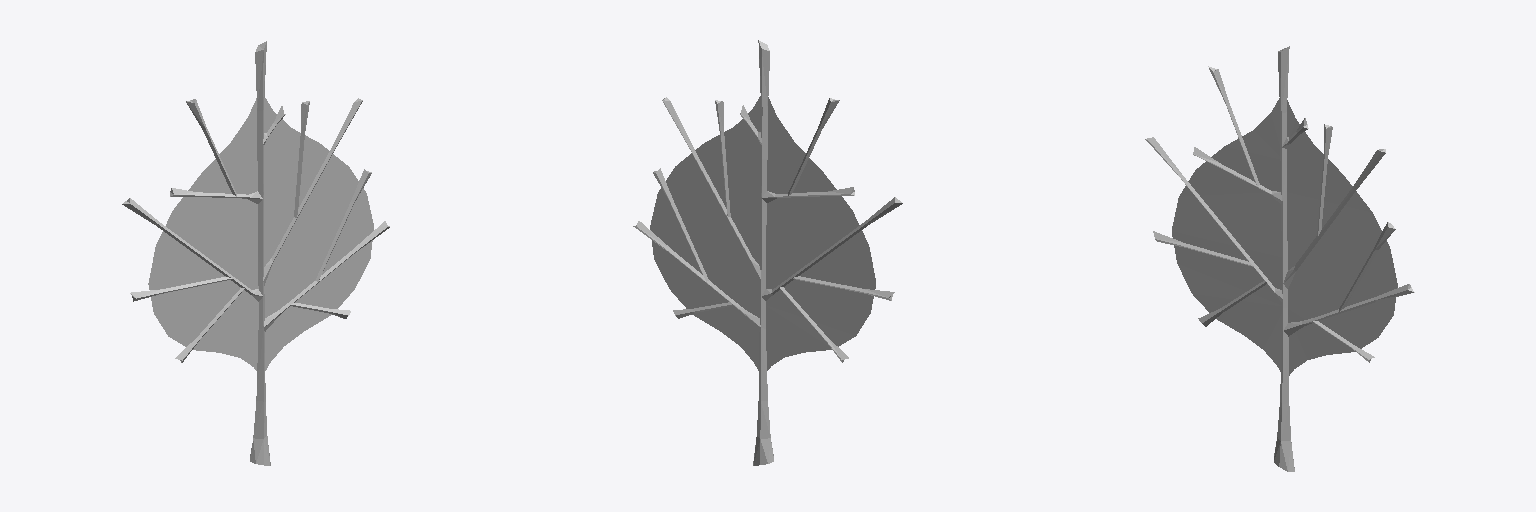
The model's file is Deku_Leaf.obj.
The picture shows the model from 3 angles: view 1: azimuth 30°, elevation 25°; view 2: azimuth 150°, elevation 25°; view 3: azimuth 330°, elevation 25°; orthographic projection.
Visible parts, largest first — view 1: Leaf; view 2: Leaf; view 3: Leaf.
Boxes of the visible parts, box(x1,y1,x2,y2) form: Leaf: box(122, 41, 389, 465); Leaf: box(633, 40, 902, 465); Leaf: box(1145, 46, 1414, 471).
Bounding box in the file's own units: 3.65 × 5.51 × 0.2114.